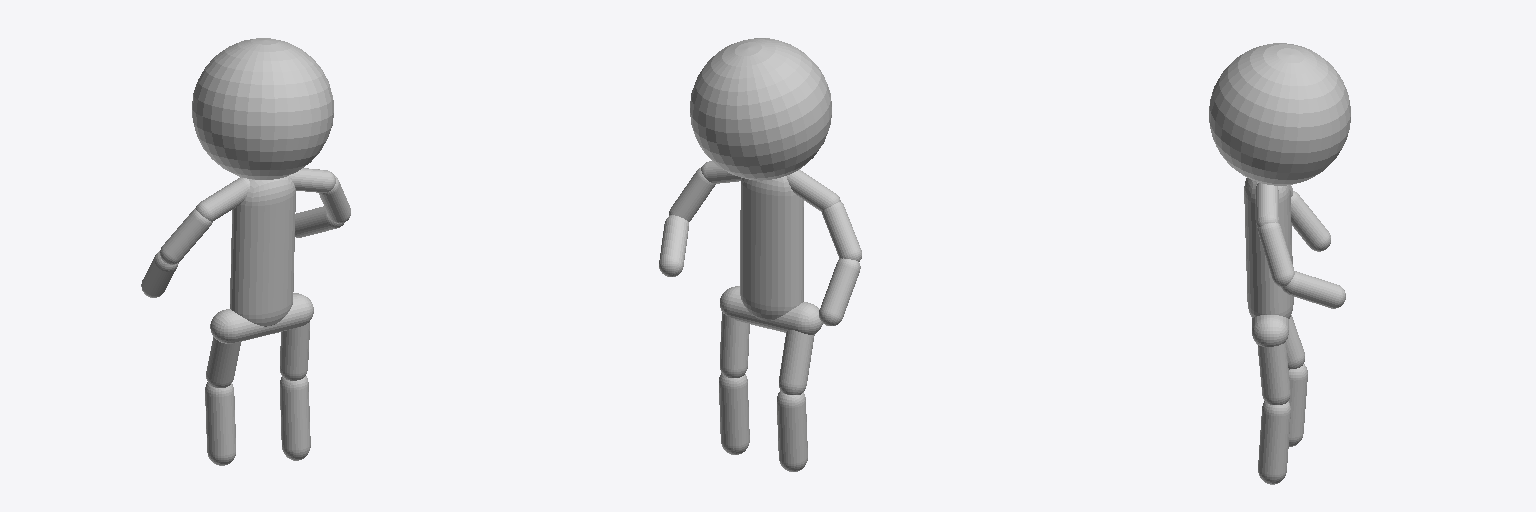
File: Stickman_000035.obj
3 views of the same model, side by side, from view 1: azimuth 30°, elevation 25°; view 2: azimuth 150°, elevation 25°; view 3: azimuth 270°, elevation 25° (orthographic).
Visible parts, largest first — view 1: Head_Sphere.001, Body_Roundcube.002, LowerLegLeft_Roundcube.013, LowerLegRight_Roundcube.011, Hip_Roundcube.005, UpperLegLeft_Roundcube.012, UpperArmRight_Roundcube.015, UpperLegRight_Roundcube.010, ShoulderRight_Roundcube.014, LowerArmRight_Roundcube.016, LowerArmLeft_Roundcube.019, ShoulderLeft_Roundcube.017 (+1 smaller); view 2: Head_Sphere.001, Body_Roundcube.002, LowerLegRight_Roundcube.011, LowerLegLeft_Roundcube.013, Hip_Roundcube.005, UpperLegRight_Roundcube.010, LowerArmRight_Roundcube.016, UpperLegLeft_Roundcube.012, LowerArmLeft_Roundcube.019, UpperArmRight_Roundcube.015, UpperArmLeft_Roundcube.018, ShoulderRight_Roundcube.014; view 3: Head_Sphere.001, Body_Roundcube.002, LowerLegLeft_Roundcube.013, UpperLegLeft_Roundcube.012, UpperArmLeft_Roundcube.018, LowerArmLeft_Roundcube.019, LowerArmRight_Roundcube.016, LowerLegRight_Roundcube.011, Hip_Roundcube.005, ShoulderLeft_Roundcube.017, UpperLegRight_Roundcube.010.
Boxes of the visible parts, <box> form: Head_Sphere.001: <box>192,38,333,179</box>; Body_Roundcube.002: <box>230,176,295,326</box>; LowerLegLeft_Roundcube.013: <box>280,376,310,460</box>; LowerLegRight_Roundcube.011: <box>205,382,235,465</box>; Hip_Roundcube.005: <box>210,293,313,343</box>; UpperLegLeft_Roundcube.012: <box>280,322,309,380</box>; UpperArmRight_Roundcube.015: <box>160,209,212,264</box>; UpperLegRight_Roundcube.010: <box>206,337,240,387</box>; ShoulderRight_Roundcube.014: <box>195,177,249,221</box>; LowerArmRight_Roundcube.016: <box>141,251,178,297</box>; LowerArmLeft_Roundcube.019: <box>295,206,343,237</box>; ShoulderLeft_Roundcube.017: <box>289,168,335,192</box>; Head_Sphere.001: <box>690,38,831,180</box>; Body_Roundcube.002: <box>740,176,803,320</box>; LowerLegRight_Roundcube.011: <box>777,391,807,471</box>; LowerLegLeft_Roundcube.013: <box>719,373,749,454</box>; Hip_Roundcube.005: <box>720,286,822,334</box>; UpperLegRight_Roundcube.010: <box>779,330,814,394</box>; LowerArmRight_Roundcube.016: <box>819,258,860,325</box>; UpperLegLeft_Roundcube.012: <box>720,312,749,377</box>; LowerArmLeft_Roundcube.019: <box>659,215,688,276</box>; UpperArmRight_Roundcube.015: <box>822,202,861,261</box>; UpperArmLeft_Roundcube.018: <box>669,168,715,221</box>; ShoulderRight_Roundcube.014: <box>787,169,840,211</box>; Head_Sphere.001: <box>1209,43,1350,185</box>; Body_Roundcube.002: <box>1244,178,1293,318</box>; LowerLegLeft_Roundcube.013: <box>1258,401,1290,484</box>; UpperLegLeft_Roundcube.012: <box>1258,342,1290,404</box>; UpperArmLeft_Roundcube.018: <box>1258,222,1294,286</box>; LowerArmLeft_Roundcube.019: <box>1281,271,1345,308</box>; LowerArmRight_Roundcube.016: <box>1291,191,1330,251</box>; LowerLegRight_Roundcube.011: <box>1289,364,1307,446</box>; Hip_Roundcube.005: <box>1252,315,1288,346</box>; ShoulderLeft_Roundcube.017: <box>1255,183,1278,227</box>; UpperLegRight_Roundcube.010: <box>1286,315,1304,369</box>.
Size of the model in its own units: 5.37 by 11.25 by 3.47.